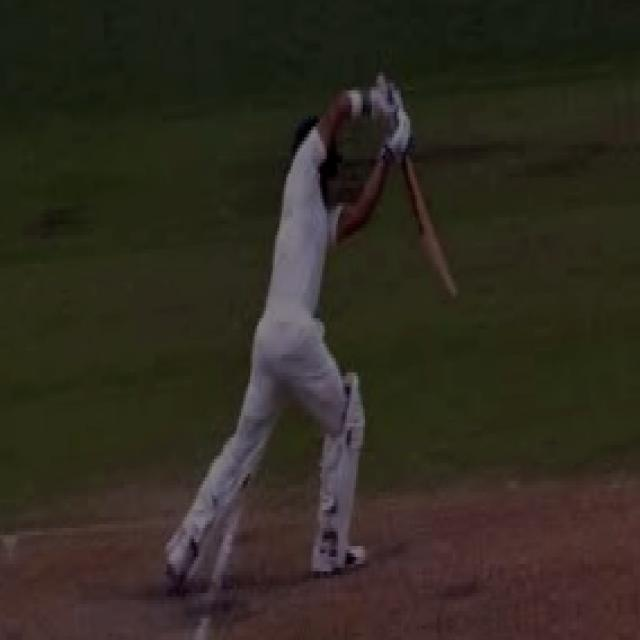toe: (432, 255, 459, 301)
